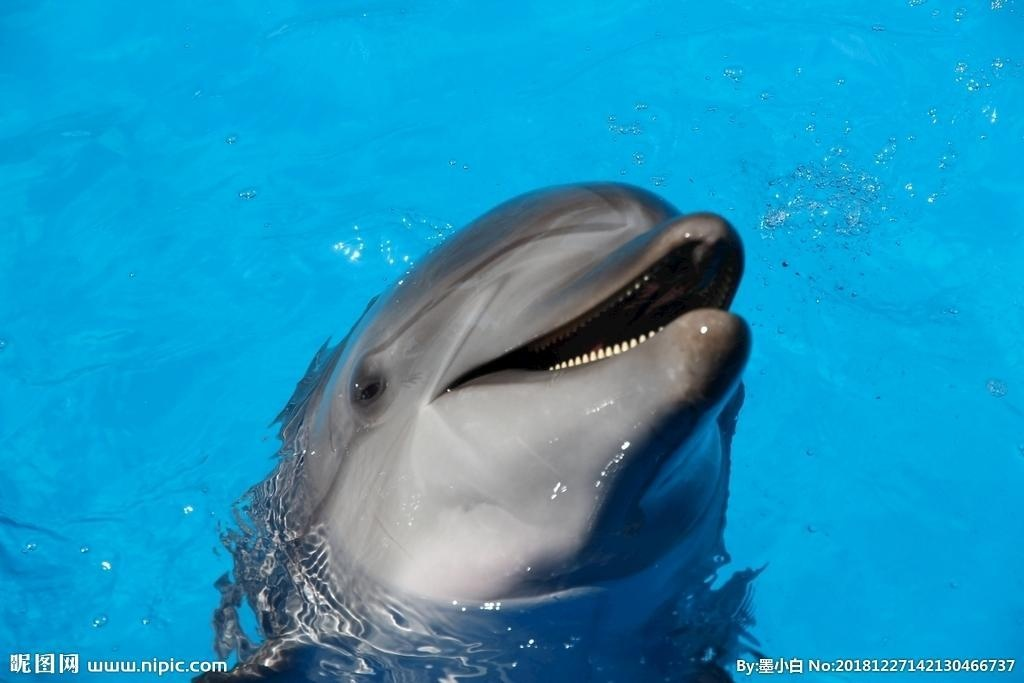fish: (206, 173, 758, 677)
